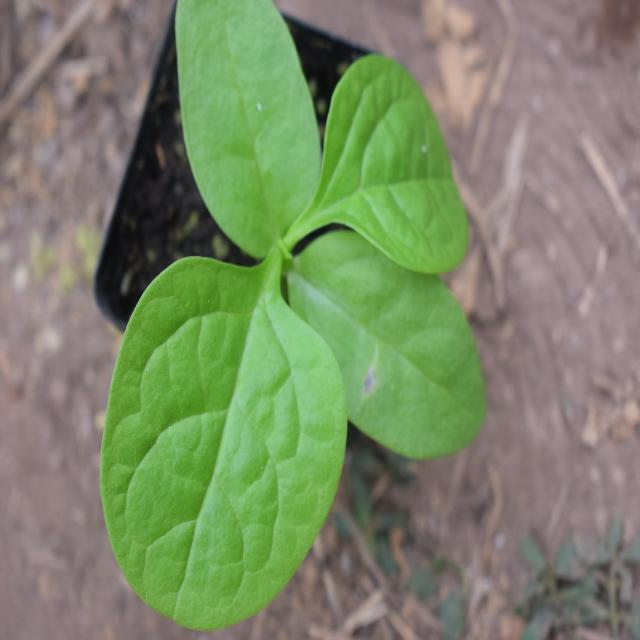Ceylon spinach: (126, 5, 484, 618)
